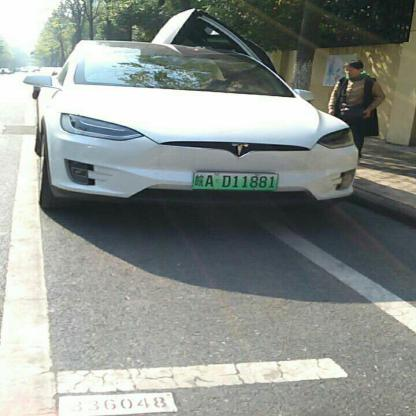lp: (192, 171, 278, 188)
